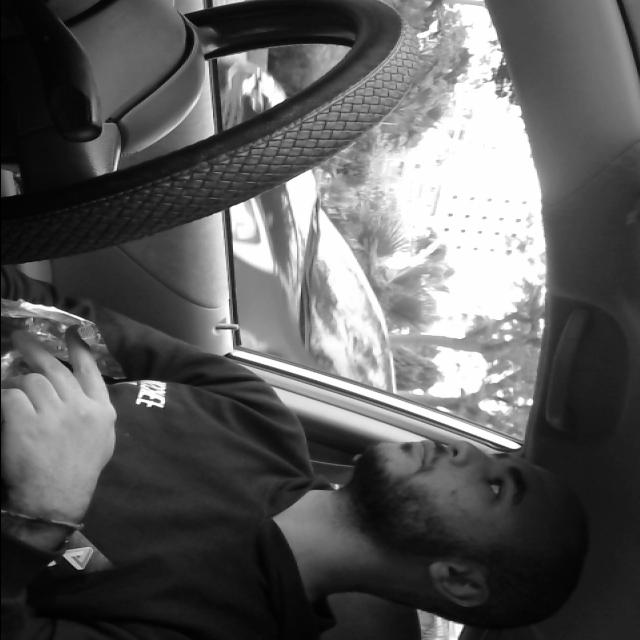eating: (0, 291, 126, 427)
